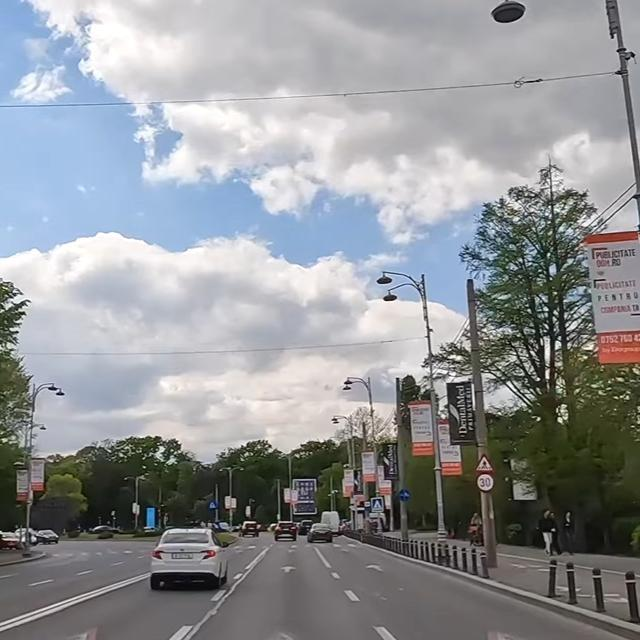forb_speed_over_30: (476, 473, 493, 491)
